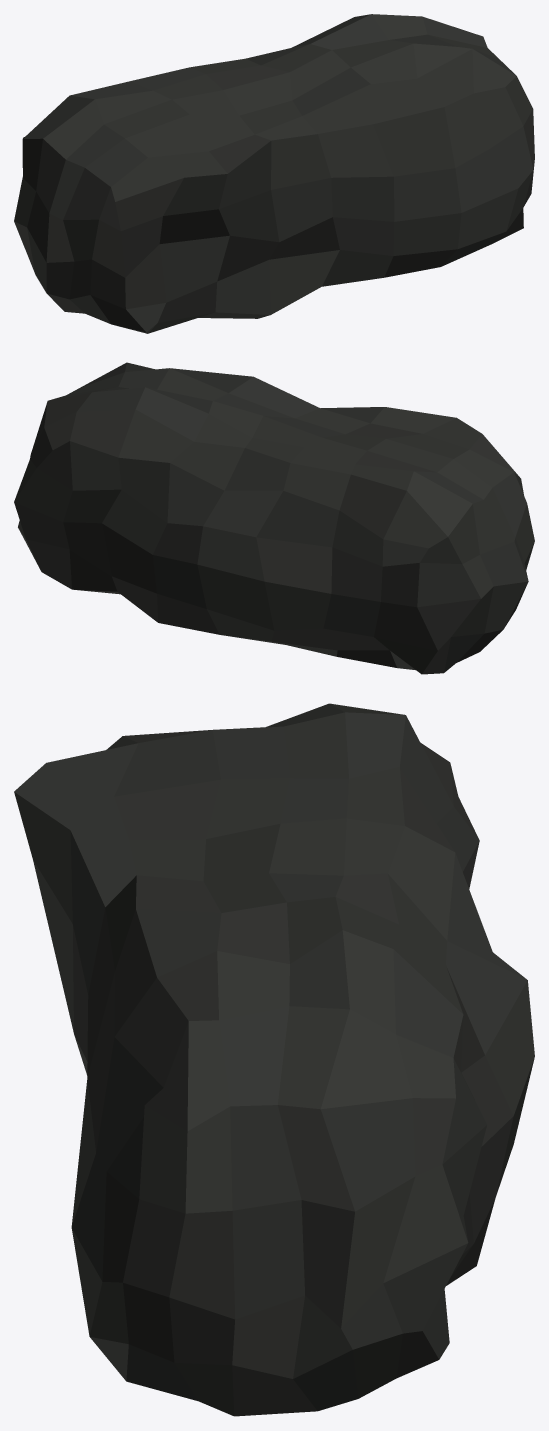
File: Stein2.fbx
The picture shows the model from 3 angles, top to bottom: view 1: azimuth 30°, elevation 25°; view 2: azimuth 150°, elevation 25°; view 3: azimuth 270°, elevation 25°; orthographic projection. The views are drawn at different scales.
Parts seen in each view (by area): view 1: Stein3; view 2: Stein3; view 3: Stein3.
Part boxes in pixels (x1=…): Stein3: x1=14, y1=14, x2=534, y2=333; Stein3: x1=14, y1=362, x2=534, y2=674; Stein3: x1=14, y1=703, x2=534, y2=1416.
Bounding box in the file's own units: 580 × 259 × 286.
